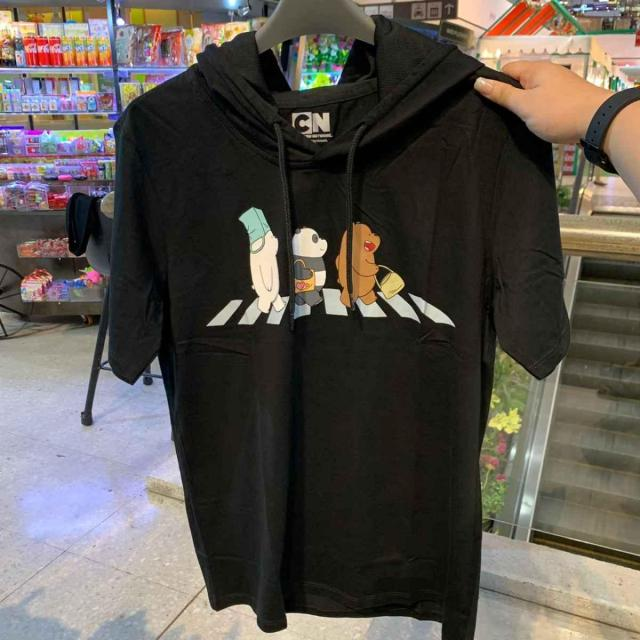Tshirt: (107, 49, 573, 640)
